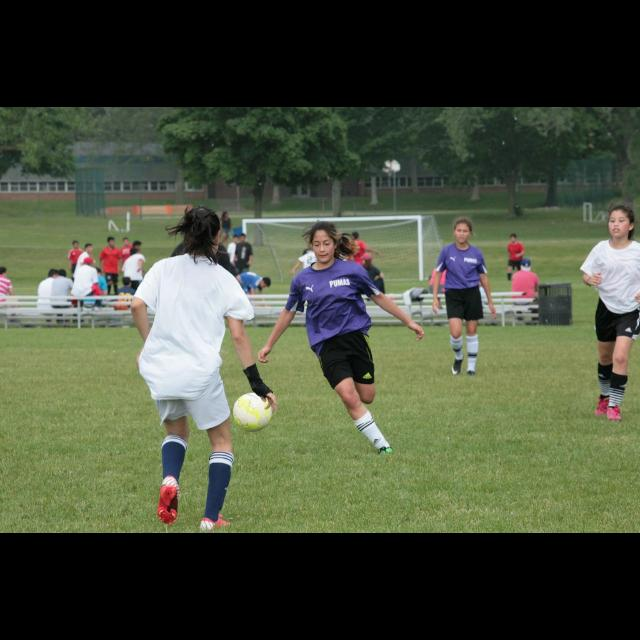Football: (232, 389, 272, 427)
